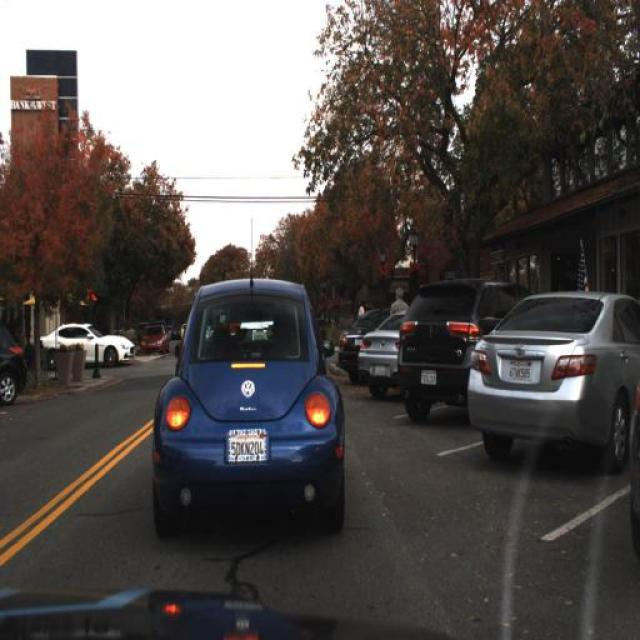car: (148, 273, 352, 542), (465, 288, 637, 464), (391, 280, 519, 420), (354, 304, 410, 394), (359, 310, 410, 399), (40, 320, 134, 368), (334, 304, 390, 384), (0, 325, 29, 399), (140, 322, 168, 358)
trafficLight: (388, 286, 408, 372)
